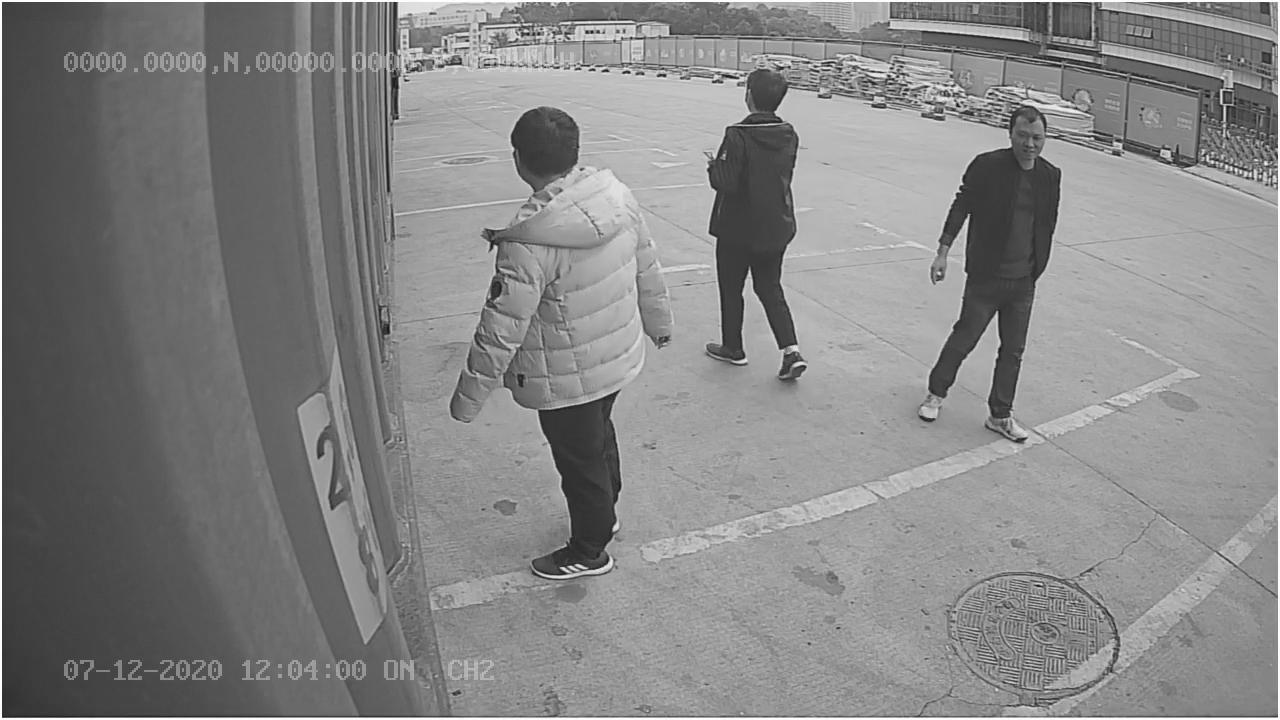person: (442, 105, 675, 582), (915, 94, 1062, 446), (696, 62, 824, 385)
